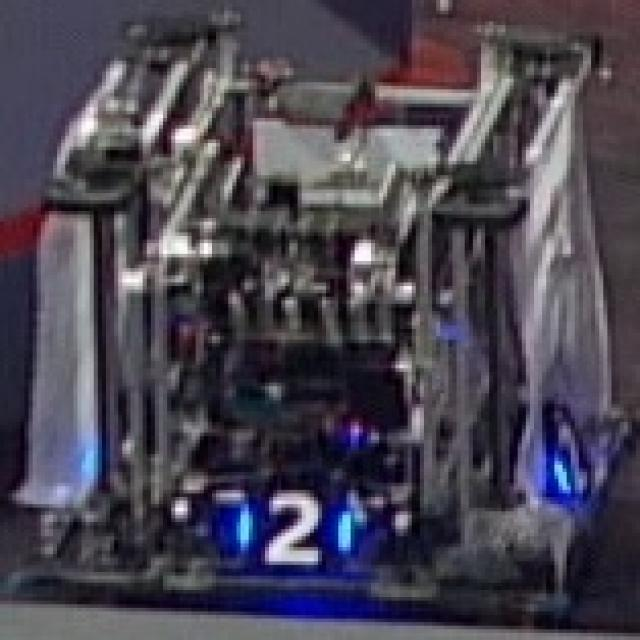B2: (236, 483, 354, 572), (542, 418, 608, 508)
